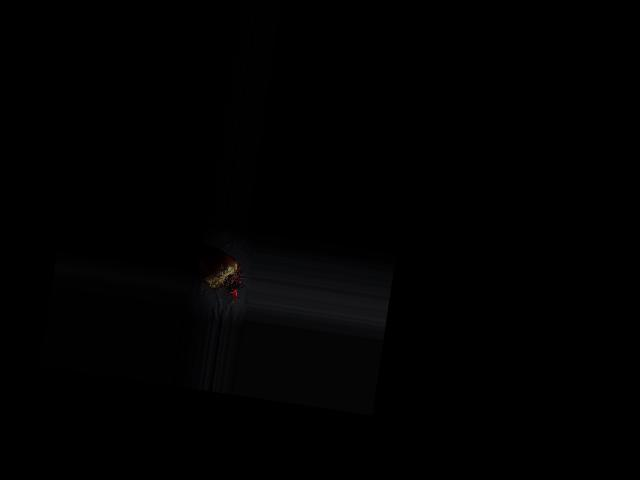beet: (191, 235, 250, 302)
